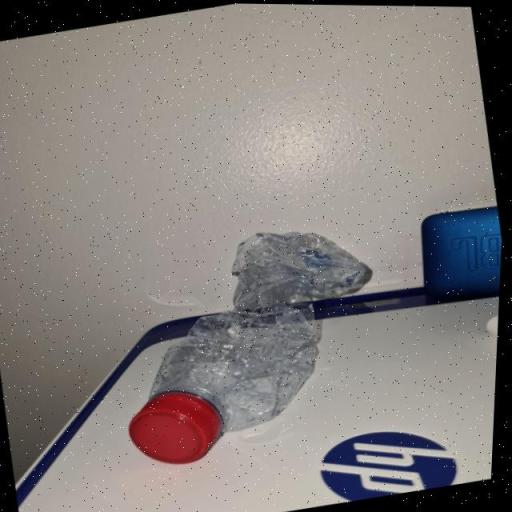plastic: (104, 214, 406, 472)
